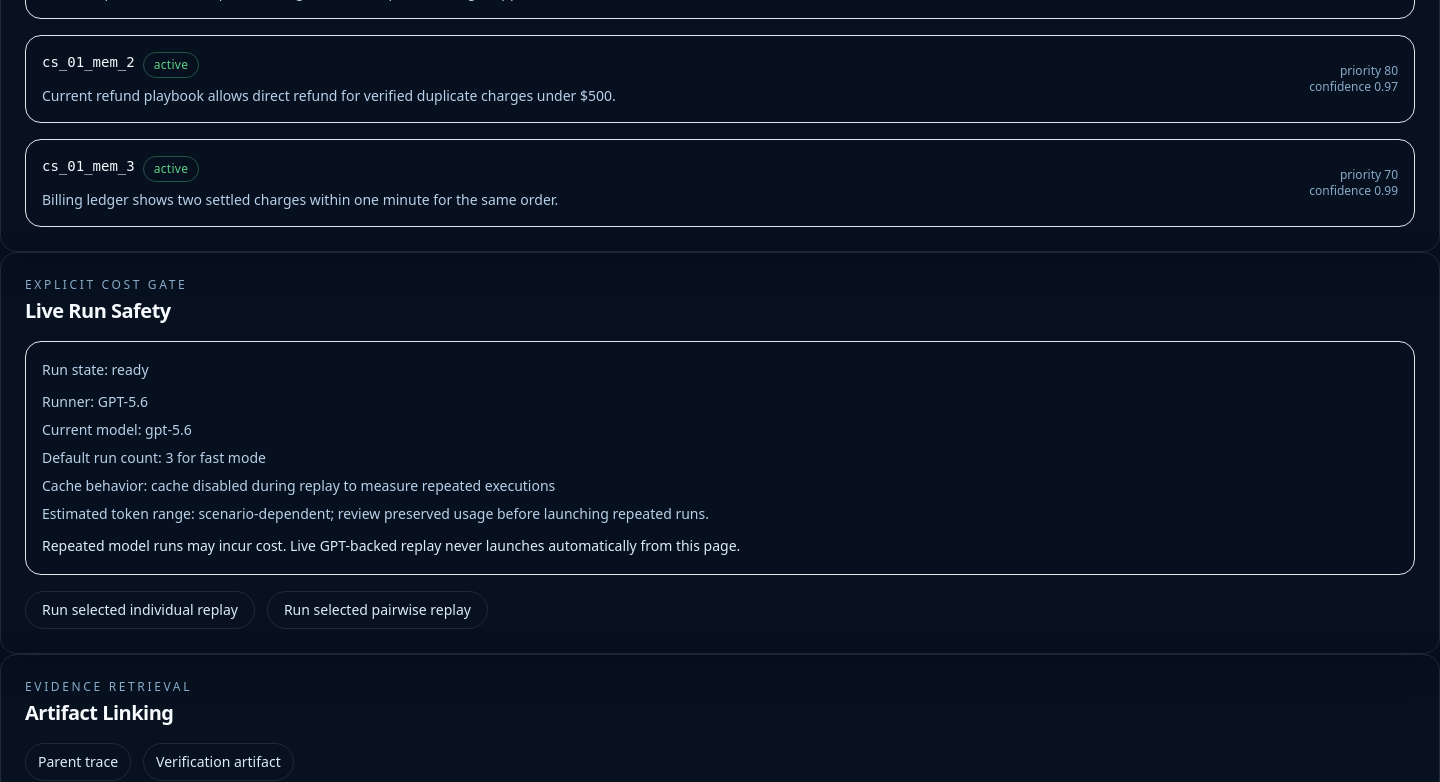
Test case: ReplayLaboratory › shows live-run confirmation safety when enabled
The width and height of the screenshot is (1440, 782).
(page scrolled)
Click the button "Run selected individual replay" at (140, 610), box [25,591,255,629]
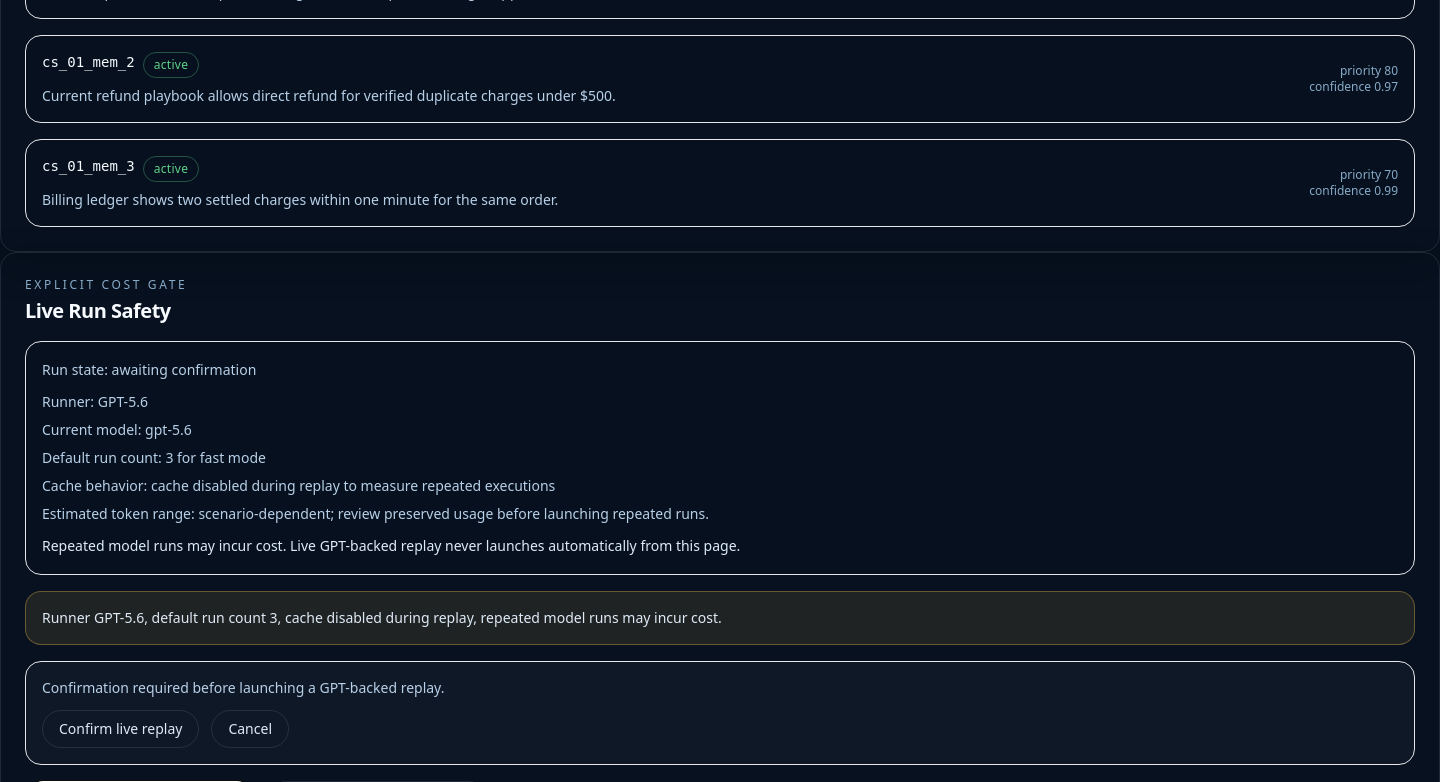
Expected: the text "Repeated model runs may incur cost" is shown, [42,536,740,555]
Expected: the text "Confirmation required before launching a GPT-backed replay." is shown, [42,678,444,697]
